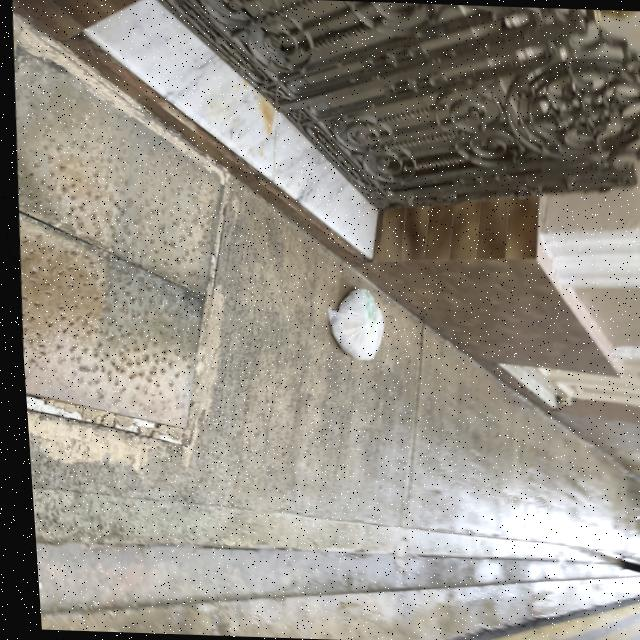Organic Waste -White Bag-: (321, 286, 382, 362)
